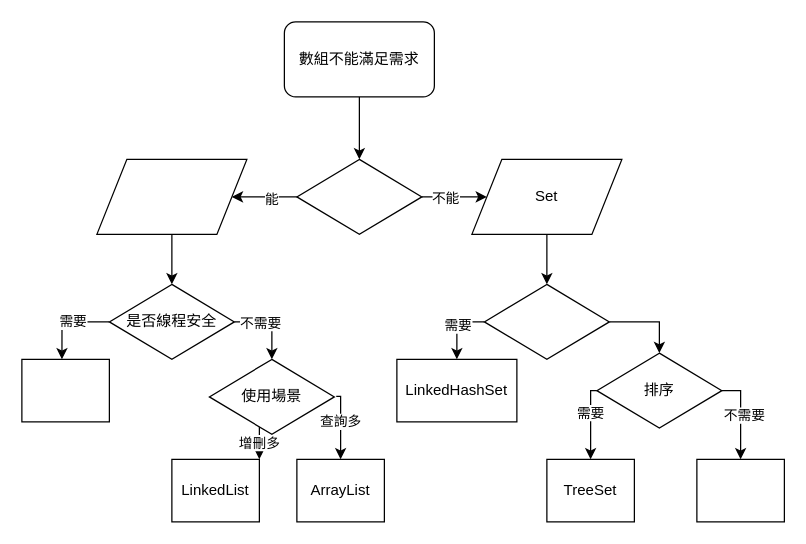
This 806x544 diagram has some shape labels left out. Each missing label, with the centre of its shape:
HashSet: (x=740, y=490)
List: (x=171, y=196)
Vector: (x=65, y=390)
元素能否重複: (x=359, y=196)
有序性: (x=546, y=321)
